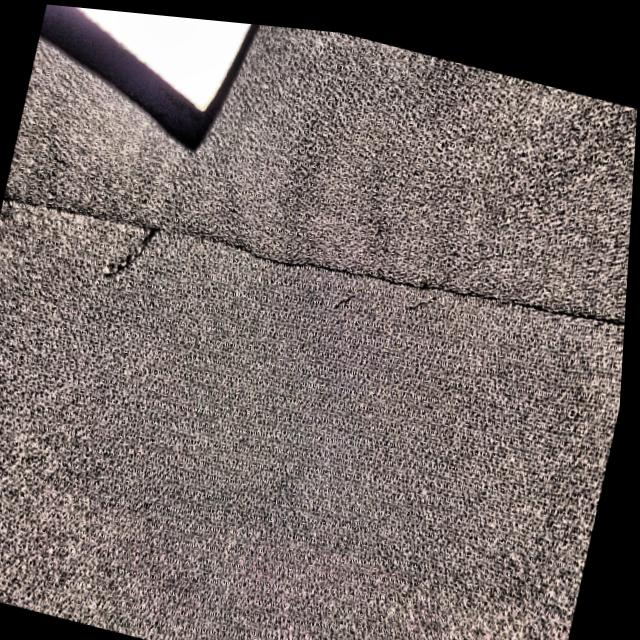Stitch: (322, 199, 491, 328), (89, 190, 172, 310)
